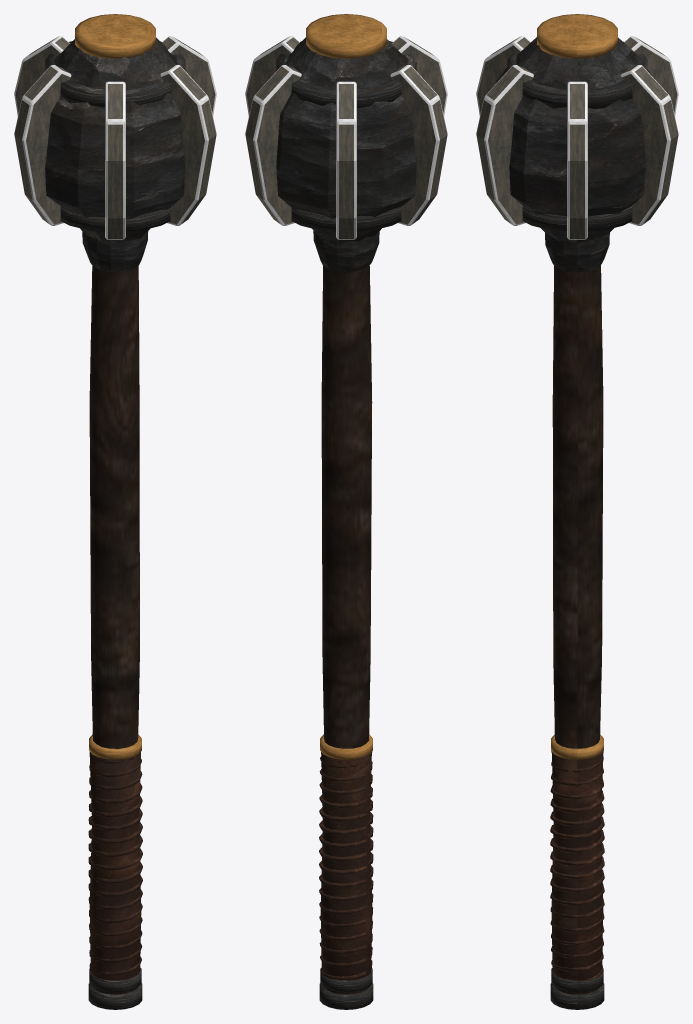
Rendered from vault_breaker.glb.
The picture shows the model from 3 angles, left to right: view 1: azimuth 30°, elevation 25°; view 2: azimuth 150°, elevation 25°; view 3: azimuth 270°, elevation 25°; orthographic projection.
Parts seen in each view (by area): view 1: Straight palm shaft and tapered ironwood.011, Vault Breaker cast hammer core, Bound palm grip.020, Vault breaker thick forged flanges.003, Vault breaker thick forged flanges.005, Continuous bound leather seam.020, Vault breaker thick forged flanges.004, Socket retaining collar, Shaft collar.004, Swaged head socket.011, Vault breaker thick forged flanges.002, Shaft collar.003 (+4 smaller); view 2: Straight palm shaft and tapered ironwood.011, Vault Breaker cast hammer core, Bound palm grip.020, Vault breaker thick forged flanges.003, Vault breaker thick forged flanges.001, Continuous bound leather seam.020, Vault breaker thick forged flanges.002, Socket retaining collar, Shaft collar.004, Swaged head socket.011, Shaft collar.003, Vault breaker thick forged flanges.004 (+4 smaller); view 3: Straight palm shaft and tapered ironwood.011, Vault Breaker cast hammer core, Bound palm grip.020, Vault breaker thick forged flanges.005, Vault breaker thick forged flanges.001, Continuous bound leather seam.020, Vault breaker thick forged flanges, Socket retaining collar, Shaft collar.004, Swaged head socket.011, Shaft collar.003, Vault breaker thick forged flanges.002 (+4 smaller).
Part boxes in pixels (bbox=[...]): Straight palm shaft and tapered ironwood.011: bbox=[89, 266, 139, 994]; Vault Breaker cast hammer core: bbox=[45, 37, 185, 242]; Bound palm grip.020: bbox=[89, 751, 141, 980]; Vault breaker thick forged flanges.003: bbox=[14, 65, 71, 225]; Vault breaker thick forged flanges.005: bbox=[160, 65, 216, 225]; Continuous bound leather seam.020: bbox=[88, 753, 142, 975]; Vault breaker thick forged flanges.004: bbox=[105, 81, 125, 239]; Socket retaining collar: bbox=[75, 14, 155, 58]; Shaft collar.004: bbox=[45, 41, 185, 107]; Swaged head socket.011: bbox=[82, 231, 148, 272]; Vault breaker thick forged flanges.002: bbox=[14, 36, 69, 115]; Shaft collar.003: bbox=[60, 206, 170, 231]; Straight palm shaft and tapered ironwood.011: bbox=[321, 266, 372, 994]; Vault Breaker cast hammer core: bbox=[276, 37, 416, 243]; Bound palm grip.020: bbox=[320, 752, 372, 980]; Vault breaker thick forged flanges.003: bbox=[390, 65, 447, 225]; Vault breaker thick forged flanges.001: bbox=[245, 65, 301, 225]; Continuous bound leather seam.020: bbox=[319, 751, 373, 980]; Vault breaker thick forged flanges.002: bbox=[336, 81, 356, 239]; Socket retaining collar: bbox=[306, 14, 386, 58]; Shaft collar.004: bbox=[276, 41, 416, 108]; Swaged head socket.011: bbox=[313, 230, 379, 272]; Shaft collar.003: bbox=[291, 206, 401, 231]; Vault breaker thick forged flanges.004: bbox=[392, 36, 447, 115]; Straight palm shaft and tapered ironwood.011: bbox=[552, 265, 603, 994]; Vault Breaker cast hammer core: bbox=[495, 37, 653, 242]; Bound palm grip.020: bbox=[551, 751, 603, 980]; Vault breaker thick forged flanges.005: bbox=[476, 65, 533, 225]; Vault breaker thick forged flanges.001: bbox=[621, 65, 678, 225]; Continuous bound leather seam.020: bbox=[550, 751, 604, 981]; Vault breaker thick forged flanges: bbox=[567, 81, 587, 239]; Socket retaining collar: bbox=[537, 14, 617, 58]; Shaft collar.004: bbox=[507, 41, 647, 108]; Swaged head socket.011: bbox=[545, 233, 609, 272]; Shaft collar.003: bbox=[522, 205, 632, 231]; Vault breaker thick forged flanges.002: bbox=[624, 36, 678, 115].
Bounding box in the file's own units: 0.356 × 1.7 × 0.3211.
6 materials, 6 textured.
